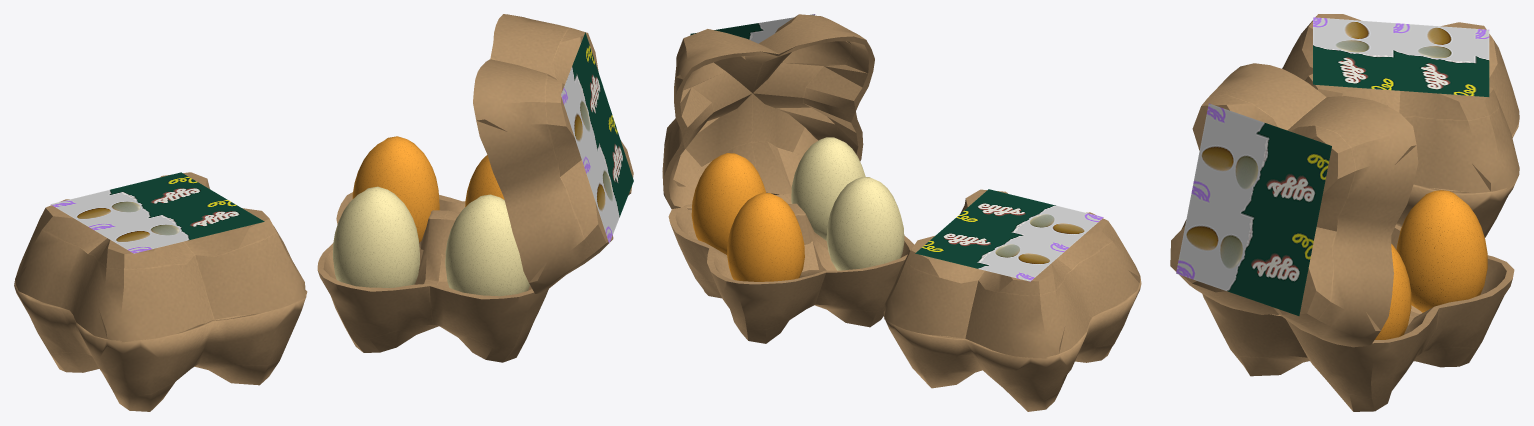
The model's file is Eggs .fbx.
3 views of the same model, side by side, from view 1: azimuth 30°, elevation 25°; view 2: azimuth 150°, elevation 25°; view 3: azimuth 270°, elevation 25° (orthographic). The views are drawn at different scales.
Visible parts, largest first — view 1: Object_14, Object_18, Object_12, Object_16, Object_10, Object_8, Object_6, Object_4; view 2: Object_14, Object_18, Object_16, Object_12, Object_10, Object_6, Object_4, Object_8; view 3: Object_18, Object_14, Object_16, Object_6, Object_12, Object_4.
Boxes of the visible parts, bbox=[...] form: Object_14: bbox=[15, 172, 306, 342]; Object_18: bbox=[473, 14, 633, 293]; Object_12: bbox=[14, 278, 307, 411]; Object_16: bbox=[317, 192, 548, 362]; Object_10: bbox=[332, 186, 419, 287]; Object_8: bbox=[445, 194, 529, 296]; Object_6: bbox=[352, 136, 439, 242]; Object_4: bbox=[465, 155, 504, 206]; Object_14: bbox=[884, 189, 1139, 358]; Object_18: bbox=[662, 14, 874, 209]; Object_16: bbox=[668, 193, 914, 343]; Object_12: bbox=[883, 275, 1141, 411]; Object_10: bbox=[826, 177, 904, 270]; Object_6: bbox=[727, 192, 804, 281]; Object_4: bbox=[691, 153, 765, 254]; Object_8: bbox=[791, 137, 865, 240]; Object_18: bbox=[1170, 63, 1418, 347]; Object_14: bbox=[1282, 14, 1519, 193]; Object_16: bbox=[1202, 224, 1514, 411]; Object_6: bbox=[1396, 190, 1487, 312]; Object_12: bbox=[1396, 119, 1519, 237]; Object_4: bbox=[1375, 244, 1411, 339].
Size of the model in its own units: 1.23 by 0.6115 by 0.656.
3 materials, 3 textured.
